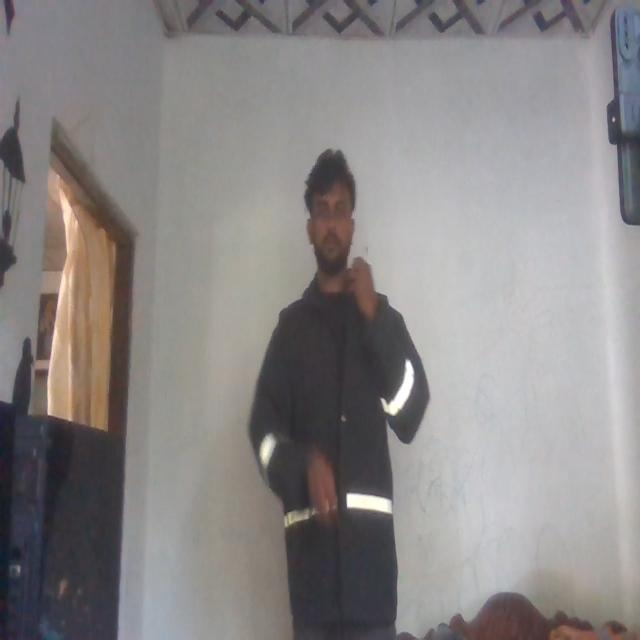Jacket_Wearer: (250, 269, 434, 640)
Person: (248, 143, 434, 640)
